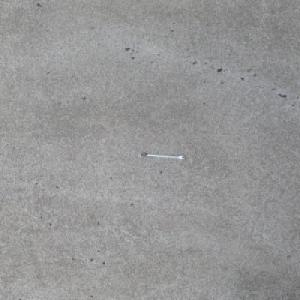Wrench: (139, 152, 185, 159)
